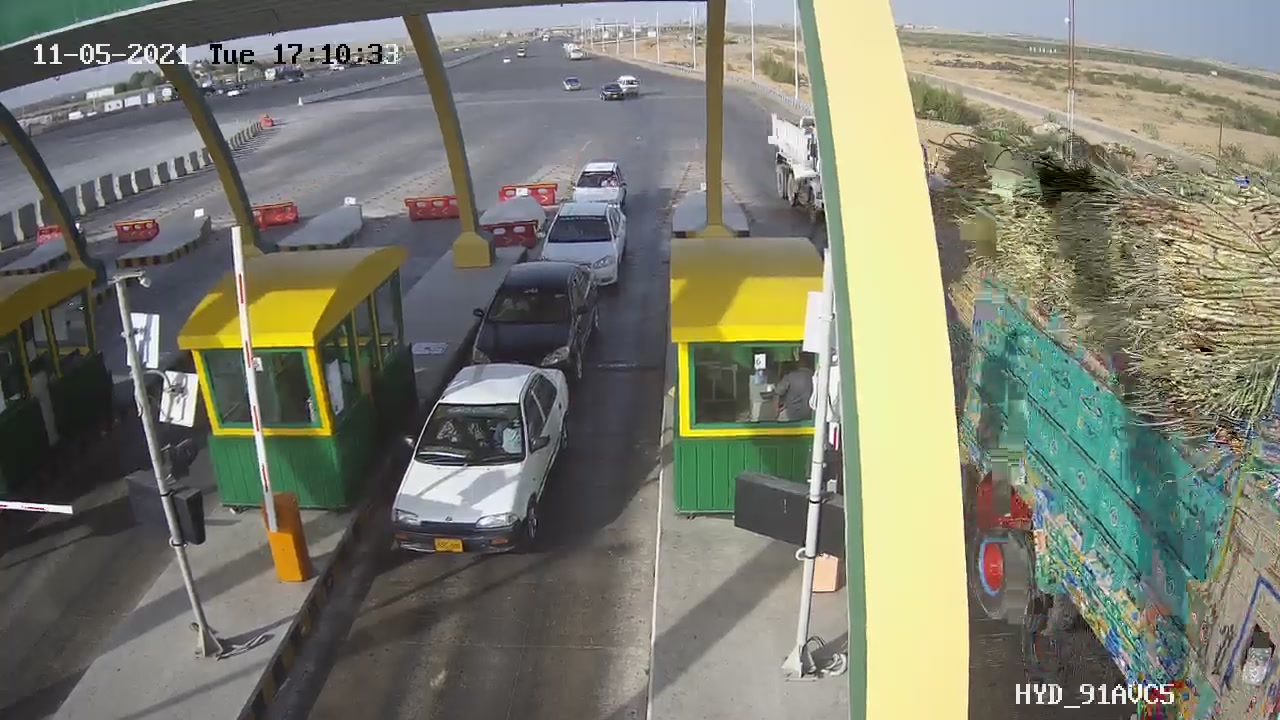F1: (377, 346, 585, 579), (442, 238, 624, 414)
